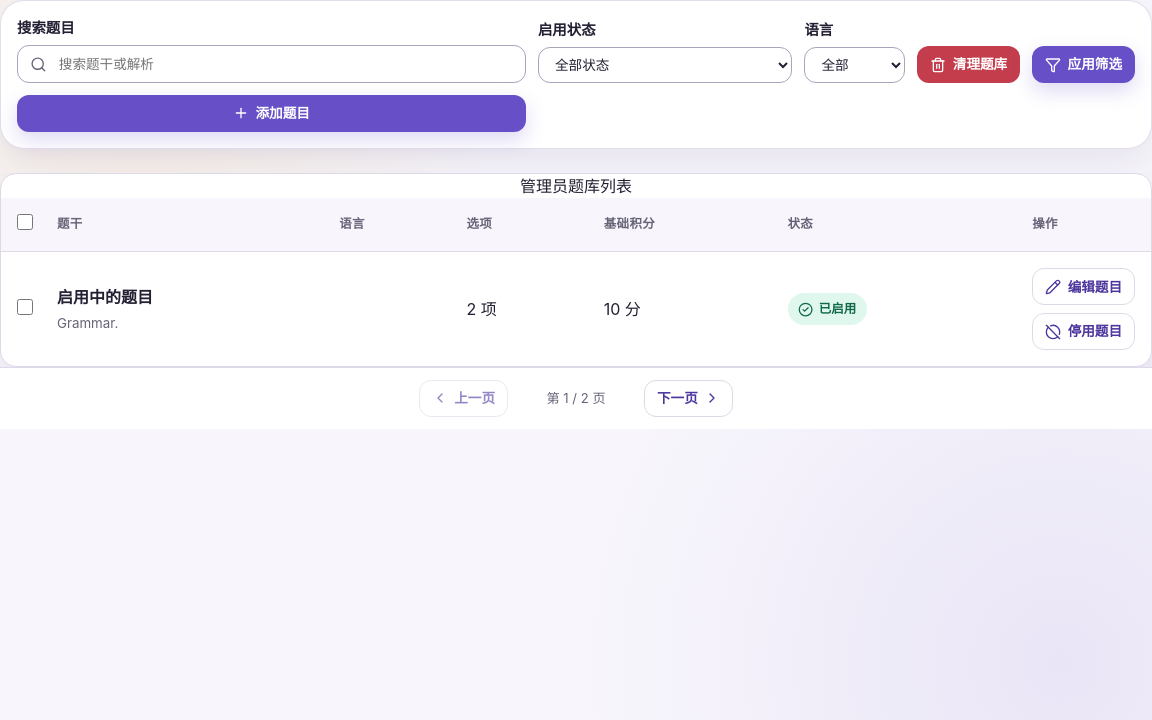
AdminQuestionsPage 批量操作 › 翻页清空勾选
The image size is (1152, 720).
Expected: the text "启用中的题目" is shown, [57,287,153,307]
Click the checkbox named "全选当前页".
click(25, 222)  # box [17,214,33,230]
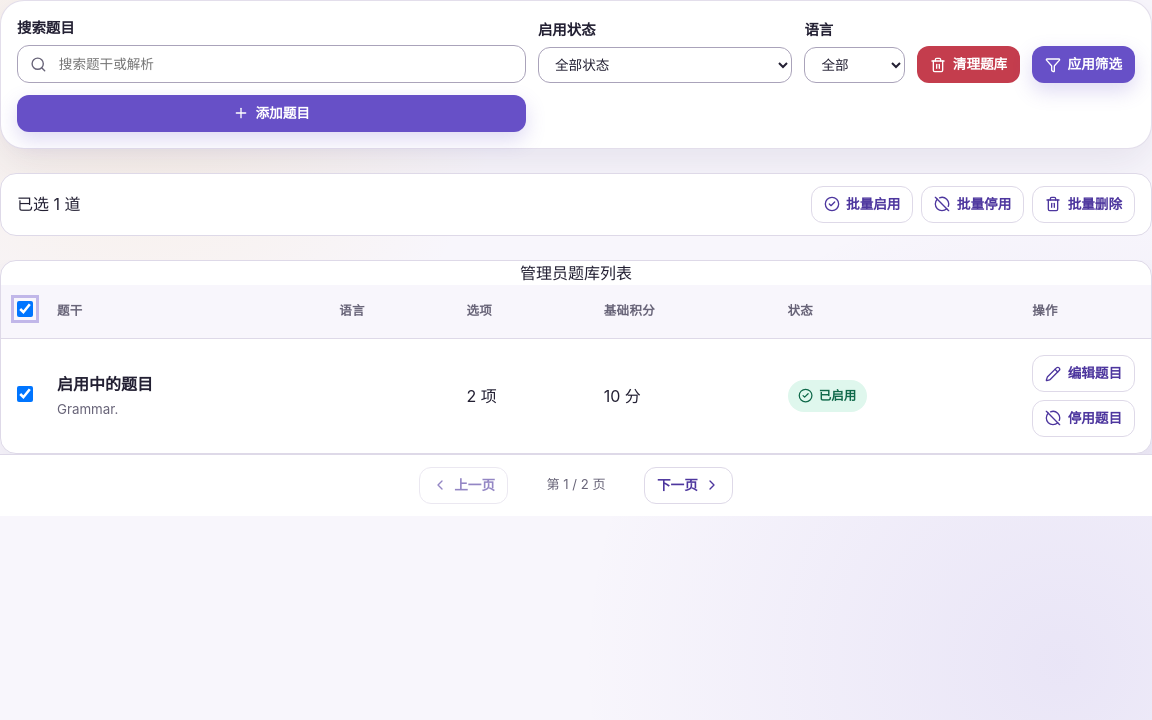
Result: the text "已选 1 道" is shown at [17,192,80,216]
Click the button "下一页".
click(689, 485)  # box [644,467,733,504]
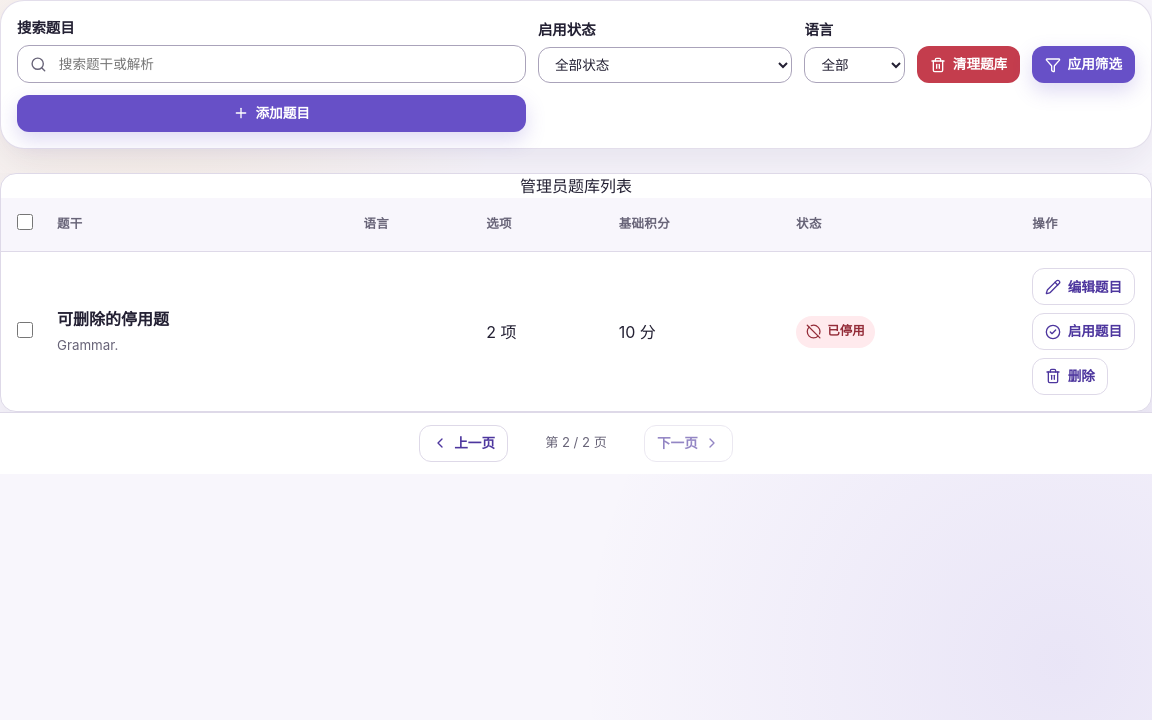
Result: the text "可删除的停用题" is shown at [57,309,169,329]
Result: the element "批量操作" is gone
